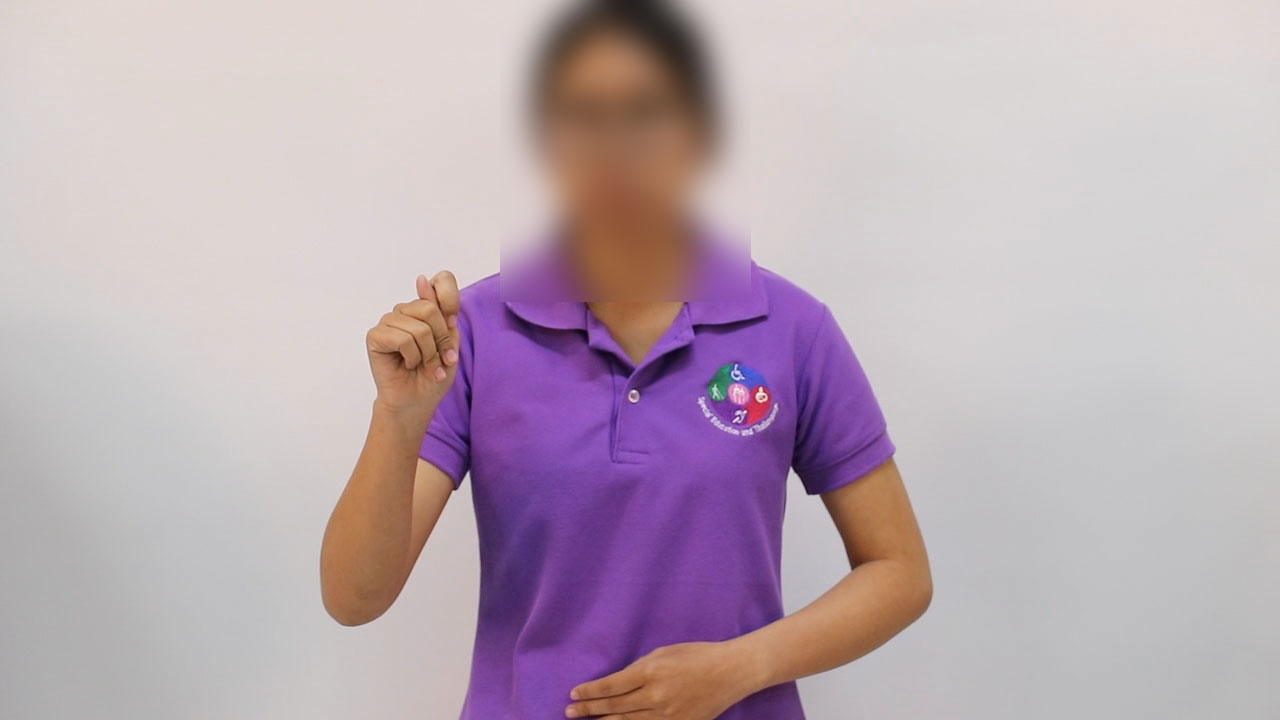tor: (332, 260, 492, 439)
